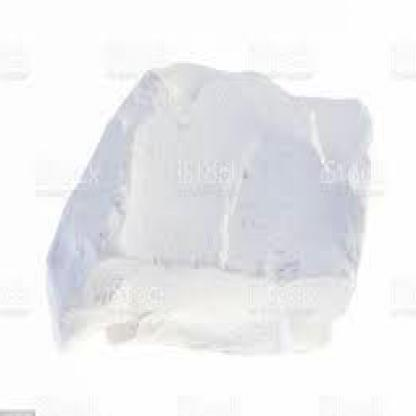Sedimentary_Chalk: (36, 50, 390, 346)
